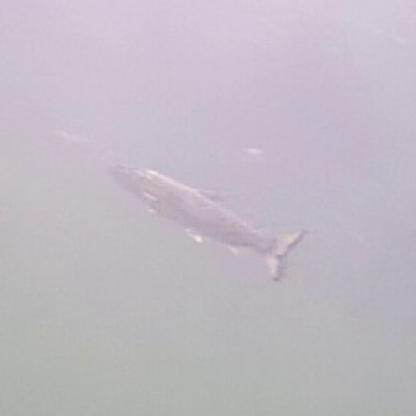salmon: (108, 160, 310, 282)
